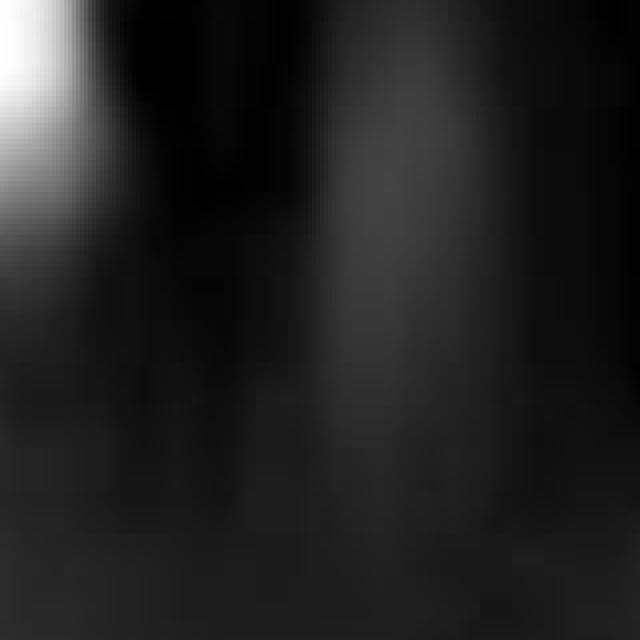person: (269, 1, 525, 486), (1, 1, 125, 284)
